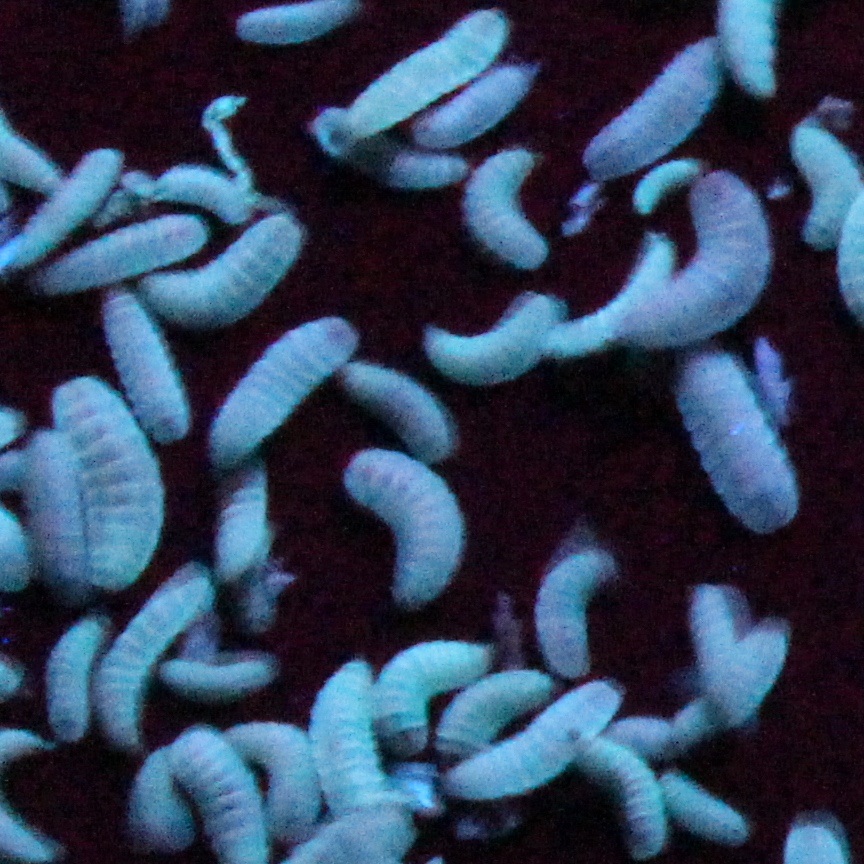larve: (620, 170, 775, 351), (669, 346, 808, 534), (44, 376, 165, 584), (440, 679, 632, 804), (212, 312, 355, 472), (90, 571, 215, 754), (333, 7, 507, 136), (582, 32, 727, 180), (138, 217, 312, 337), (344, 450, 467, 617), (548, 230, 676, 359), (363, 639, 493, 760), (20, 213, 214, 294), (2, 146, 123, 271), (308, 108, 478, 196), (419, 288, 562, 390), (100, 287, 188, 440), (338, 358, 458, 469), (682, 580, 764, 742), (309, 654, 384, 829), (216, 719, 320, 843), (425, 668, 553, 762), (408, 64, 535, 157), (25, 429, 92, 604), (575, 740, 669, 860), (704, 613, 792, 737), (533, 548, 613, 683), (462, 148, 548, 271), (206, 451, 278, 587), (40, 611, 104, 748), (145, 159, 254, 229), (146, 654, 282, 702), (655, 772, 748, 840), (1, 97, 62, 192), (598, 713, 682, 761)
